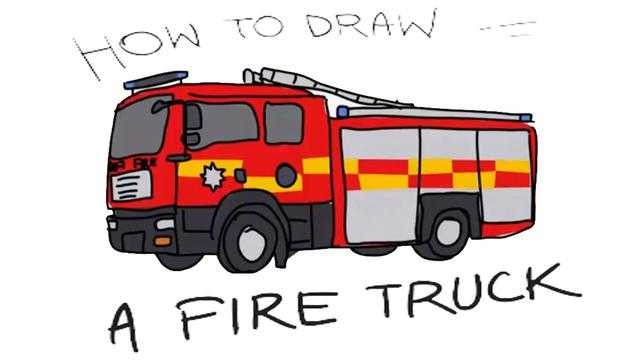Fire Truck: (70, 41, 568, 271)
